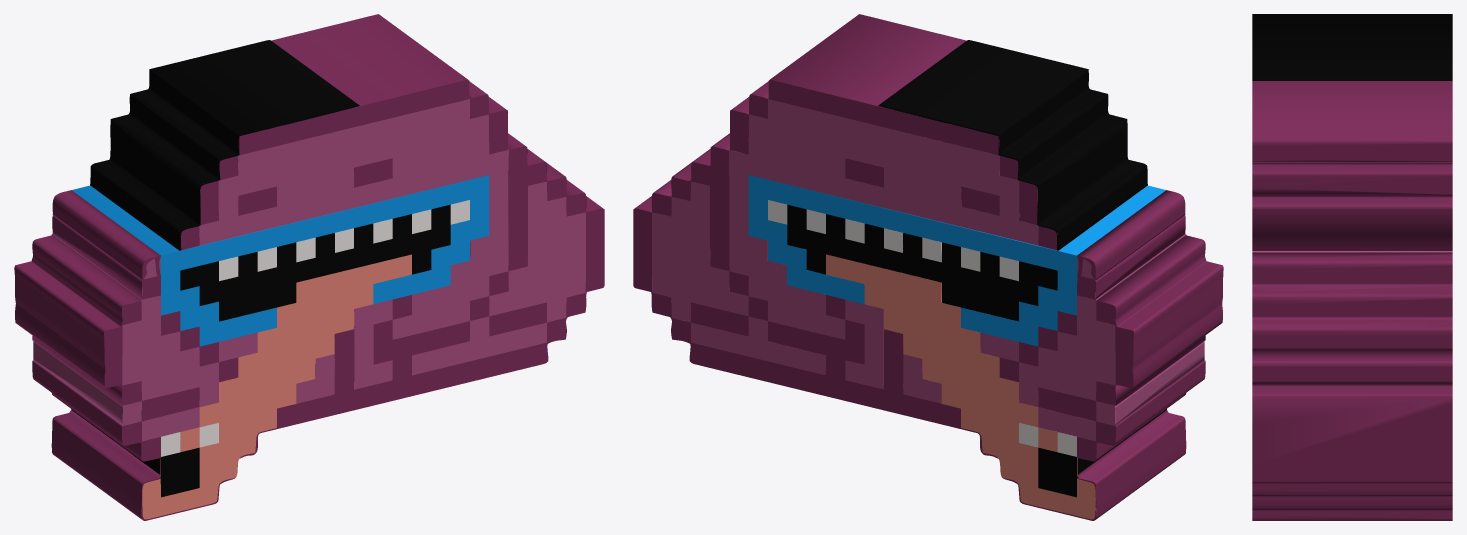
Rendered from Toadz_2210.glb.
3 renders of one model, left to right at view 1: azimuth 30°, elevation 25°; view 2: azimuth 150°, elevation 25°; view 3: azimuth 270°, elevation 25°, orthographic. The views are drawn at different scales.
Visible parts, largest first — view 1: Curve; view 2: Curve; view 3: Curve.
Part boxes in pixels (box(x1,y1,x2,y2)): Curve: box(14, 14, 604, 520); Curve: box(633, 14, 1223, 520); Curve: box(1252, 14, 1452, 520).
Bounding box in the file's own units: 3.23 × 2.24 × 1.
